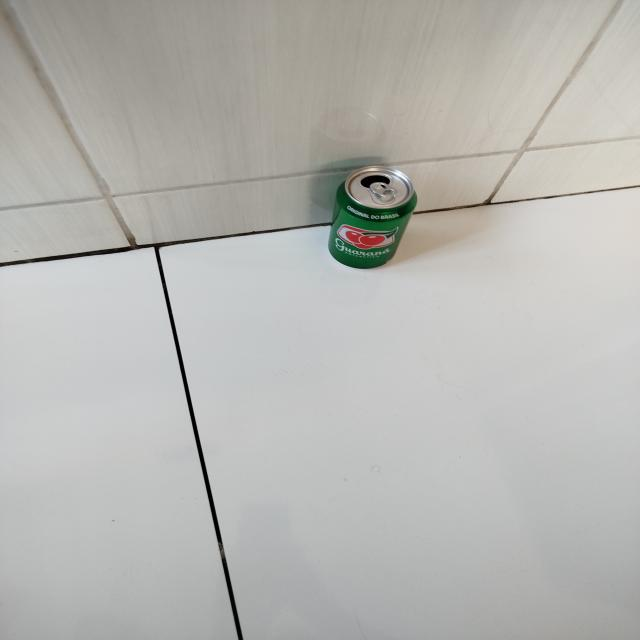Guarana: (322, 165, 421, 272)
